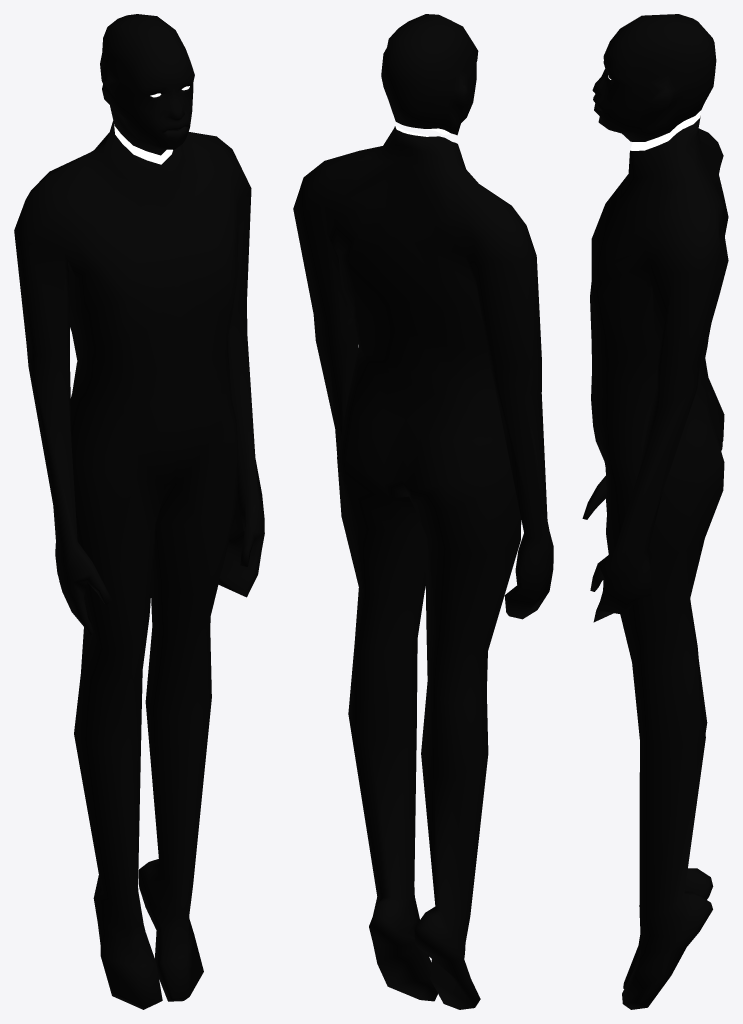
File: shrug2.glb
3 renders of one model, left to right at view 1: azimuth 30°, elevation 25°; view 2: azimuth 150°, elevation 25°; view 3: azimuth 270°, elevation 25°, orthographic. The views are drawn at different scales.
Parts seen in each view (by area): view 1: friend-proxy741, friend-proxy741.001; view 2: friend-proxy741, friend-proxy741.001; view 3: friend-proxy741, friend-proxy741.001.
Part boxes in pixels (x1,y1,x2,y2): friend-proxy741: [14, 121, 264, 1009]; friend-proxy741.001: [100, 14, 194, 155]; friend-proxy741: [293, 125, 553, 1009]; friend-proxy741.001: [381, 14, 478, 135]; friend-proxy741: [582, 112, 728, 1009]; friend-proxy741.001: [592, 14, 716, 141].
Size of the model in its own units: 0.4701 by 1.95 by 0.2628.
Materials: 2 (1 with a texture image).
